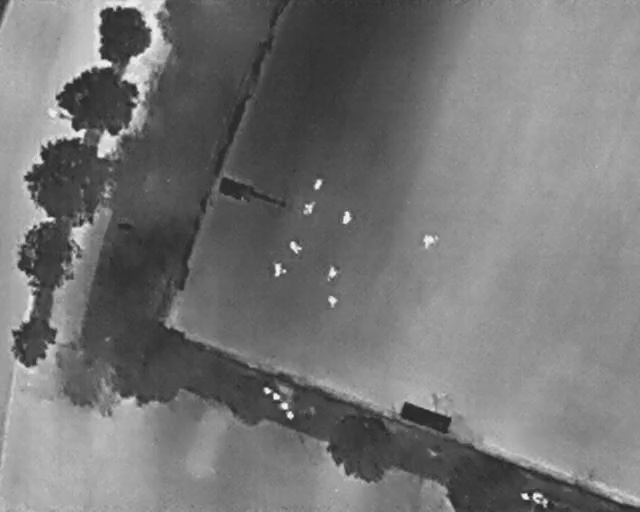Person: (298, 196, 319, 219), (286, 237, 306, 258), (421, 232, 440, 249), (325, 262, 340, 283), (272, 261, 287, 278), (311, 174, 325, 192), (340, 208, 353, 225), (327, 294, 339, 307)
